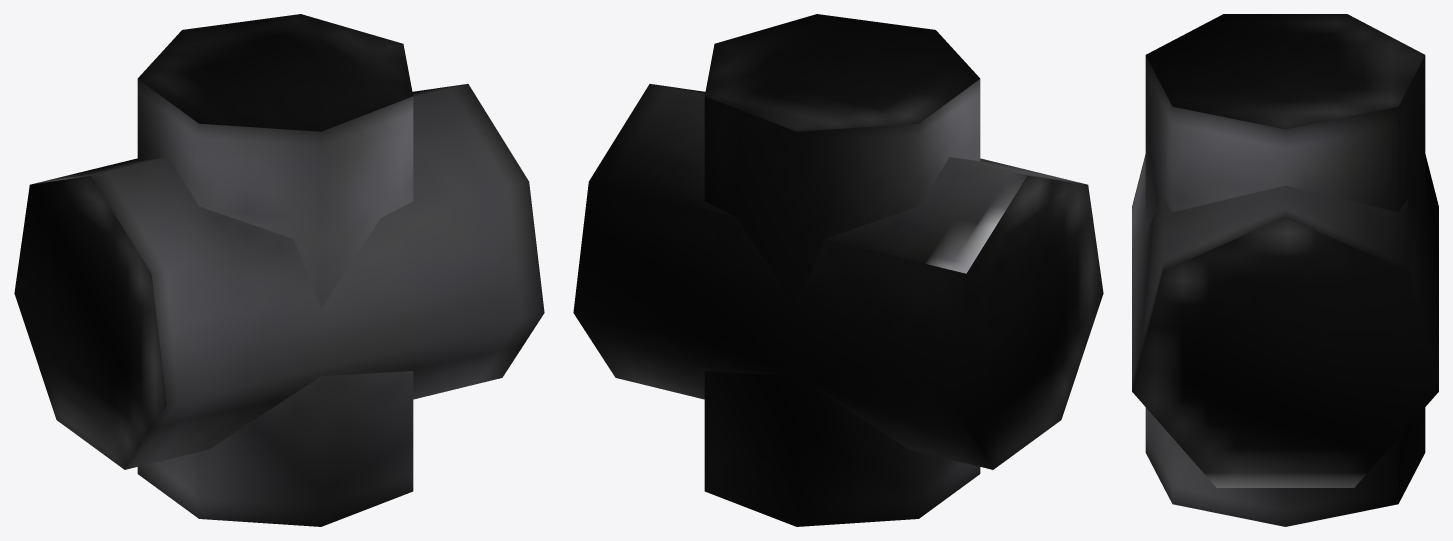
File: r_talus.obj
The picture shows the model from 3 angles, left to right: view 1: azimuth 30°, elevation 25°; view 2: azimuth 150°, elevation 25°; view 3: azimuth 270°, elevation 25°; orthographic projection.
Parts seen in each view (by area): view 1: r_talus; view 2: r_talus; view 3: r_talus.
Part boxes in pixels (<box>): r_talus: <box>14,14,544,526</box>; r_talus: <box>573,14,1103,526</box>; r_talus: <box>1132,14,1438,526</box>.
Size of the model in its own units: 0.0326 by 0.0326 by 0.0228.
